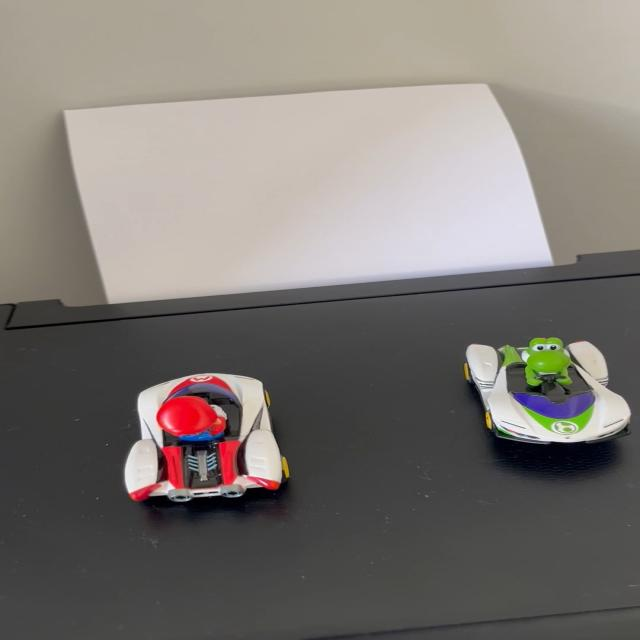mario: (112, 360, 300, 514)
yoshi: (448, 321, 638, 454)
